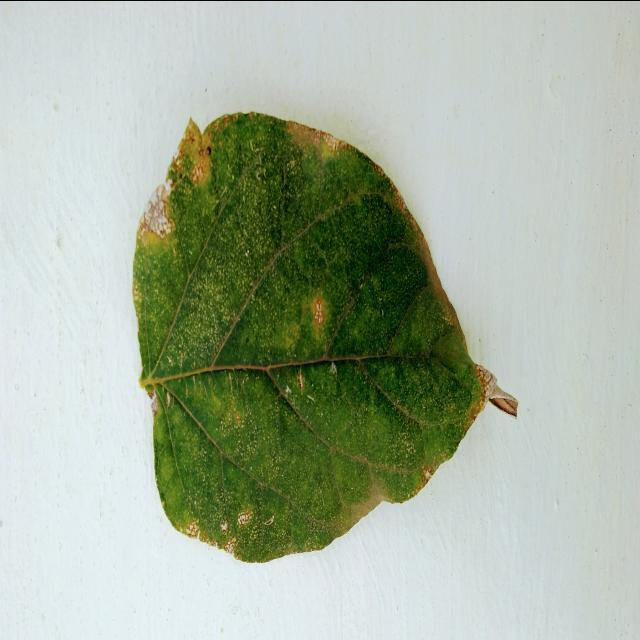leaf: (131, 109, 518, 563)
